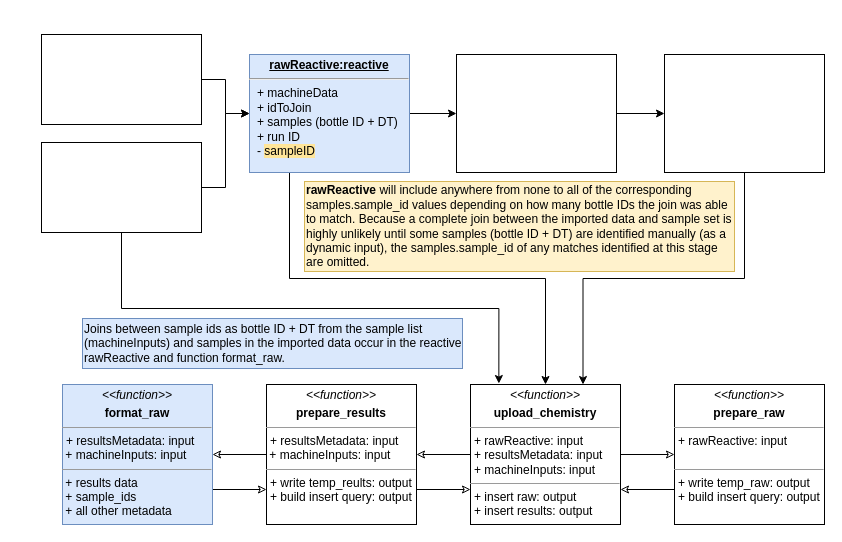
Image size: 842x542. Some labels were removed from this diagram. The shapes that lost their labels are listed below. From the top down, each one's centre as x and y in pixels, then its label:
(x=121, y=79): machineData:file + analysis data
(x=536, y=113): resultsReactive:reactive + unknowns (only) - machine run details
(x=744, y=113): resultsMetadata:reactive + dynamic inputs
(x=121, y=187): machineInputs:reactive + samples (bottle ID + DT) + sampleID
